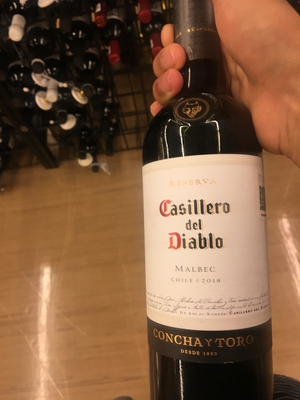casillero del diablo malbec: (125, 20, 289, 400)
